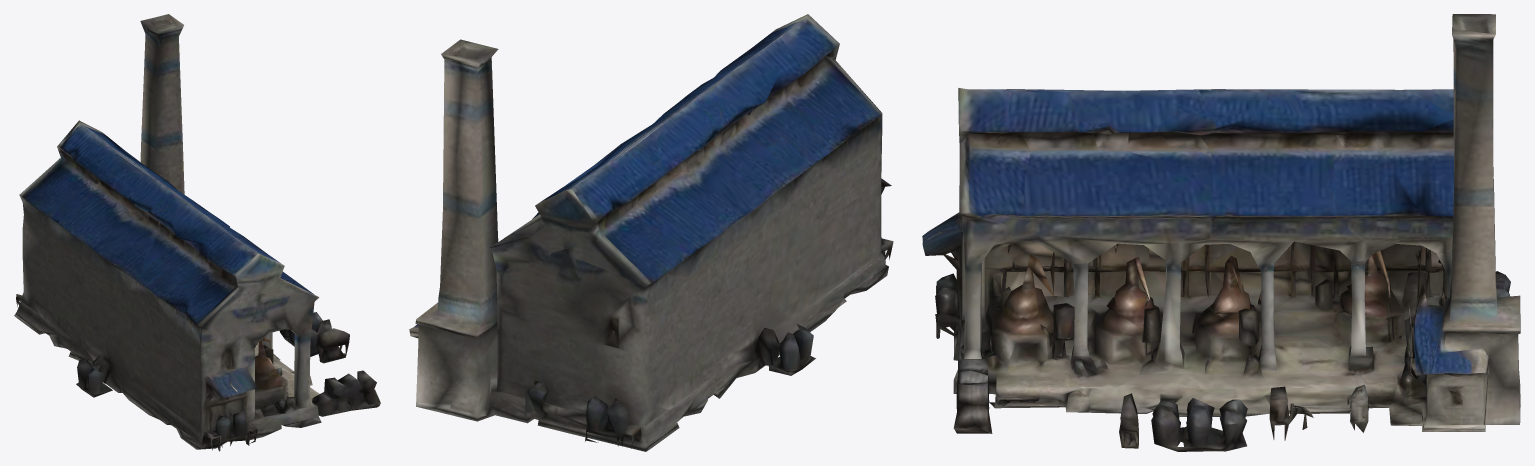
Rendered from oil_refinery_1.glb.
3 renders of one model, left to right at view 1: azimuth 30°, elevation 25°; view 2: azimuth 150°, elevation 25°; view 3: azimuth 270°, elevation 25°, orthographic. The views are drawn at different scales.
Parts seen in each view (by area): view 1: tripo_node_c09eca18-8cd5-4da7-8ff6-2cf6d75db65c; view 2: tripo_node_c09eca18-8cd5-4da7-8ff6-2cf6d75db65c; view 3: tripo_node_c09eca18-8cd5-4da7-8ff6-2cf6d75db65c.
Part boxes in pixels (x1,y1,x2,y2): tripo_node_c09eca18-8cd5-4da7-8ff6-2cf6d75db65c: (14, 14, 380, 451); tripo_node_c09eca18-8cd5-4da7-8ff6-2cf6d75db65c: (409, 14, 893, 451); tripo_node_c09eca18-8cd5-4da7-8ff6-2cf6d75db65c: (922, 14, 1520, 451).
Bounding box in the file's own units: 0.6435 × 0.6969 × 0.9827.
Materials: 1 (1 with a texture image).
